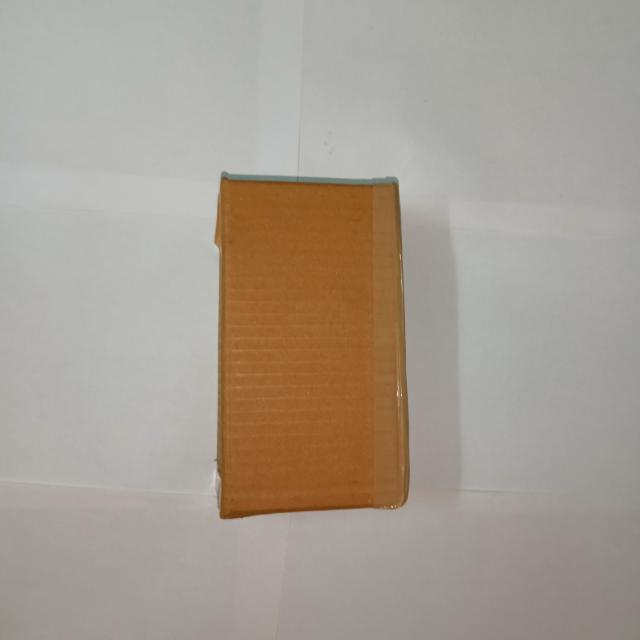box: (223, 179, 417, 516)
